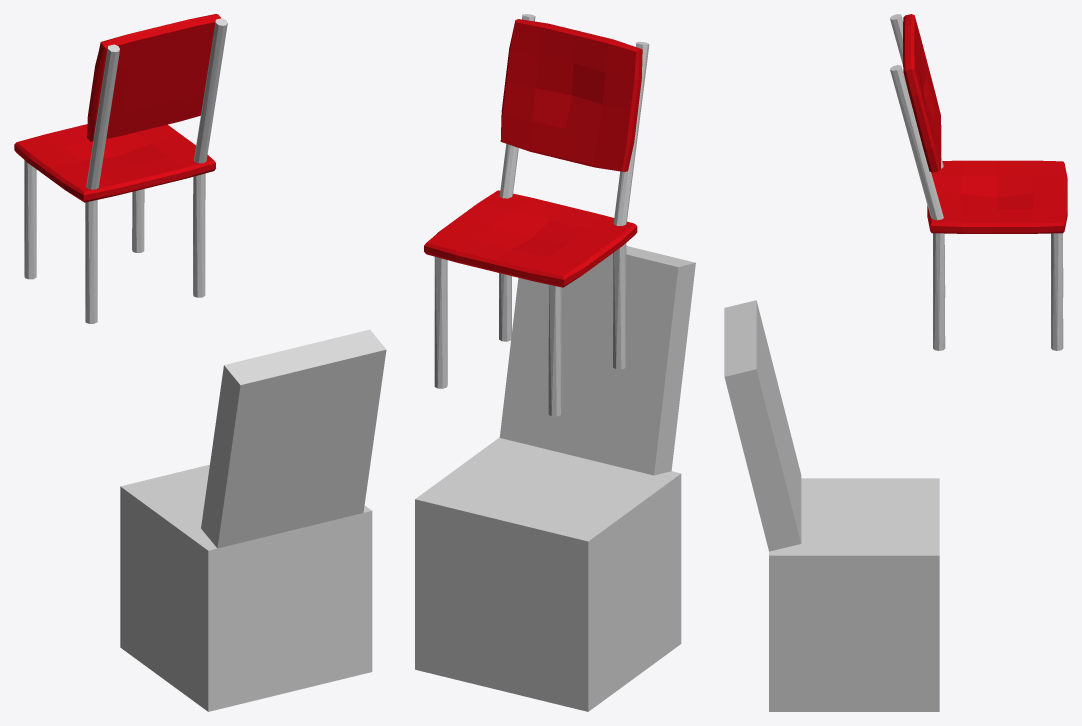
File: желтый стул.fbx
3 views of the same model, side by side, from view 1: azimuth 30°, elevation 25°; view 2: azimuth 150°, elevation 25°; view 3: azimuth 270°, elevation 25° (orthographic). The views are drawn at different scales.
Parts seen in each view (by area): view 1: Cube.001, Chair_LOD0; view 2: Cube.001, Chair_LOD0; view 3: Cube.001, Chair_LOD0.
Part boxes in pixels (<box>): Cube.001: <box>120,329,386,711</box>; Chair_LOD0: <box>14,14,227,323</box>; Cube.001: <box>415,246,695,711</box>; Chair_LOD0: <box>424,14,649,416</box>; Cube.001: <box>724,300,939,711</box>; Chair_LOD0: <box>890,14,1067,350</box>.
Size of what is drawn, in the model's own units: 95.96 by 276 by 141.
